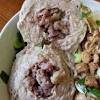bakso: (7, 2, 96, 100)
